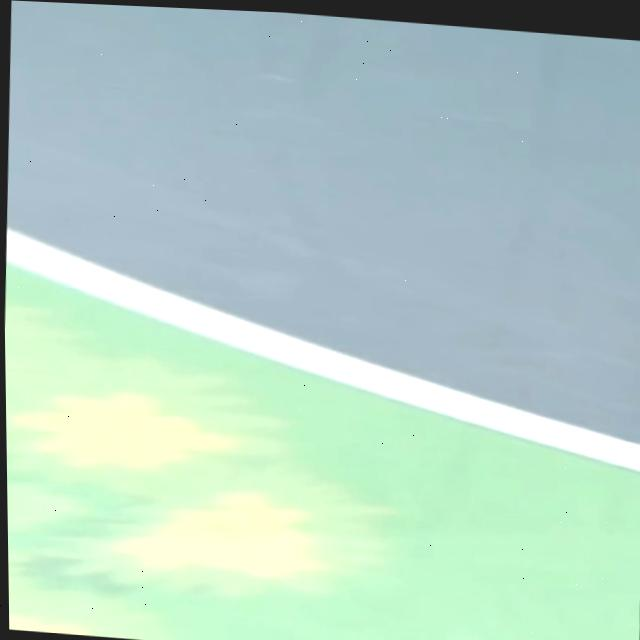right: (6, 225, 640, 468)
